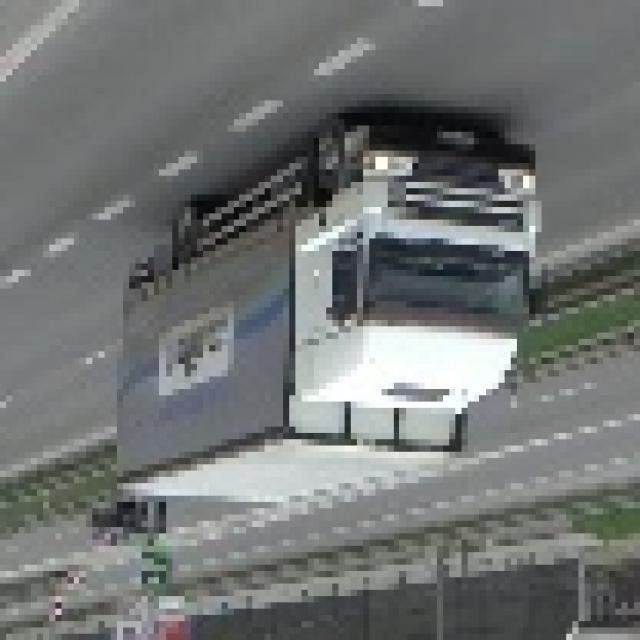truck: (123, 119, 566, 508)
